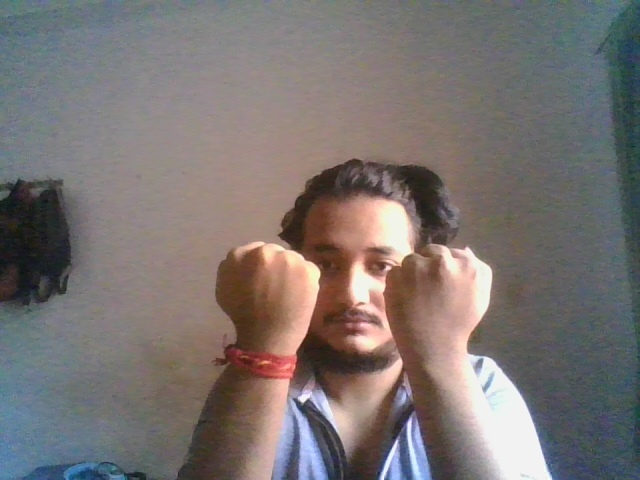Close: (214, 240, 321, 347), (383, 243, 493, 347)
